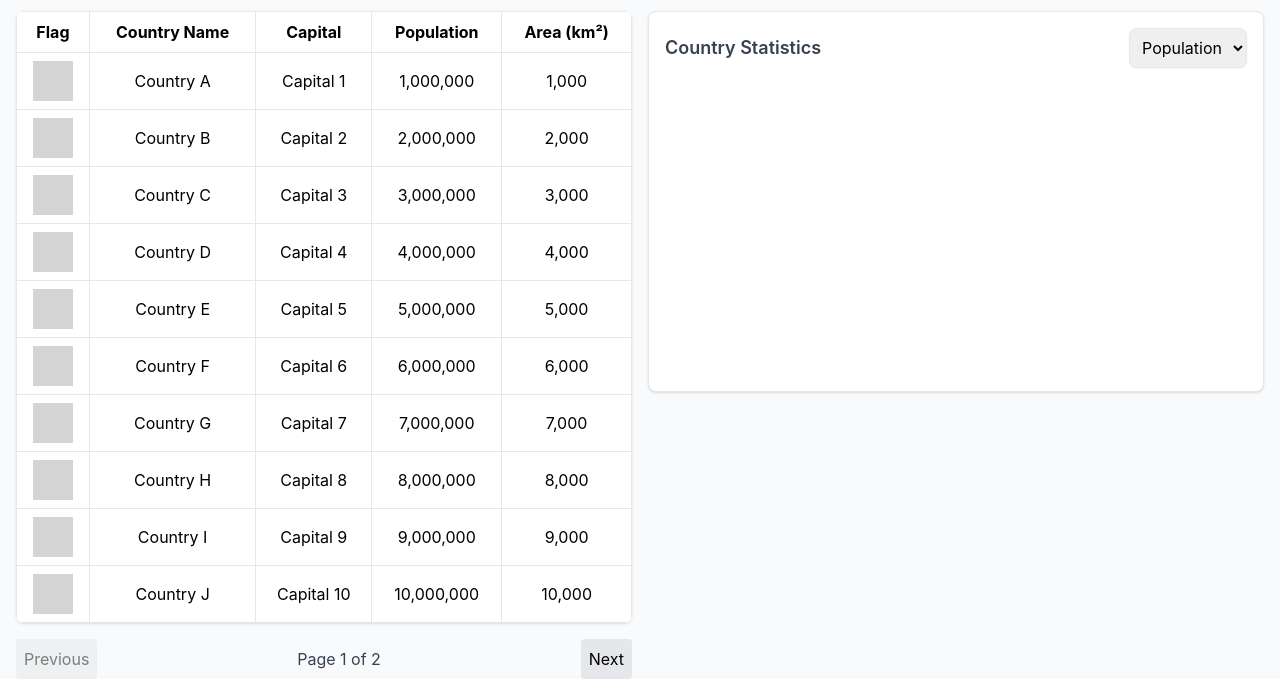
Test: CountryTable › handles pagination correctly
Check: the text "Country A" is shown, box [89,52,256,110]
Check: the text "Country J" is shown, box [89,566,256,622]
// Click next button
Click the button "Next".
click(606, 659)  # box [581,639,632,678]
(page scrolled)
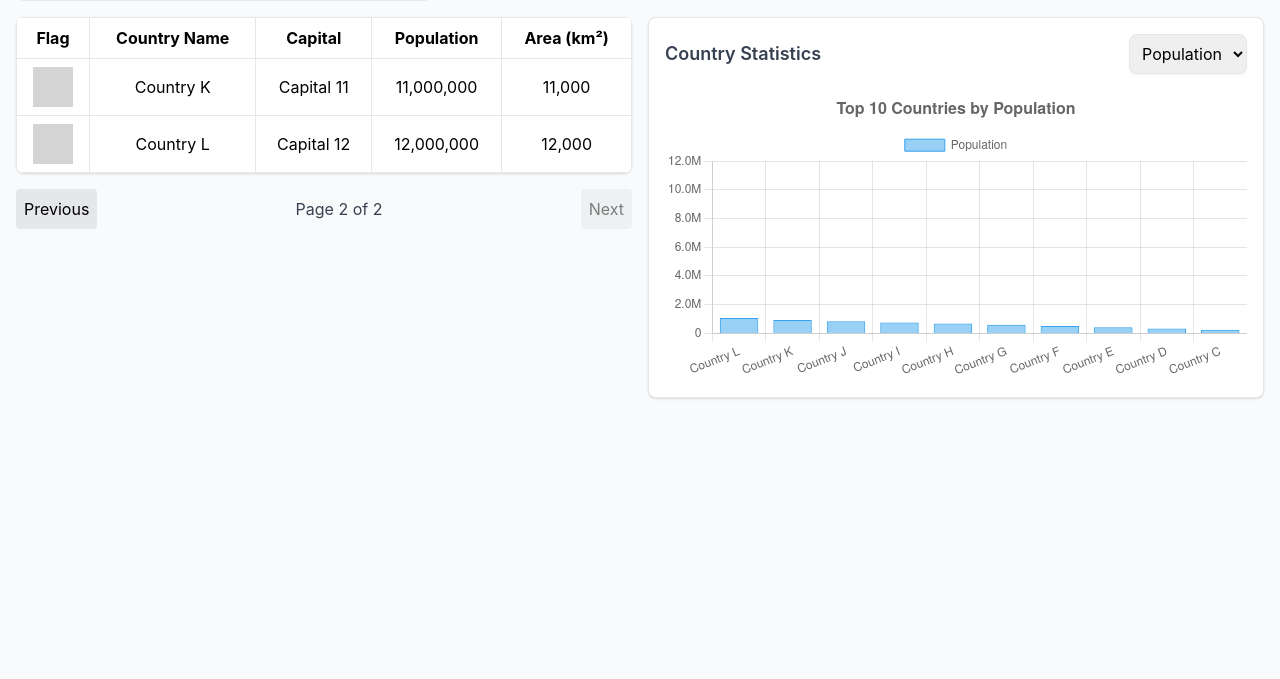
Check: the text "Country K" is shown 2 times, box [89,58,256,116]; [89,116,256,172]
